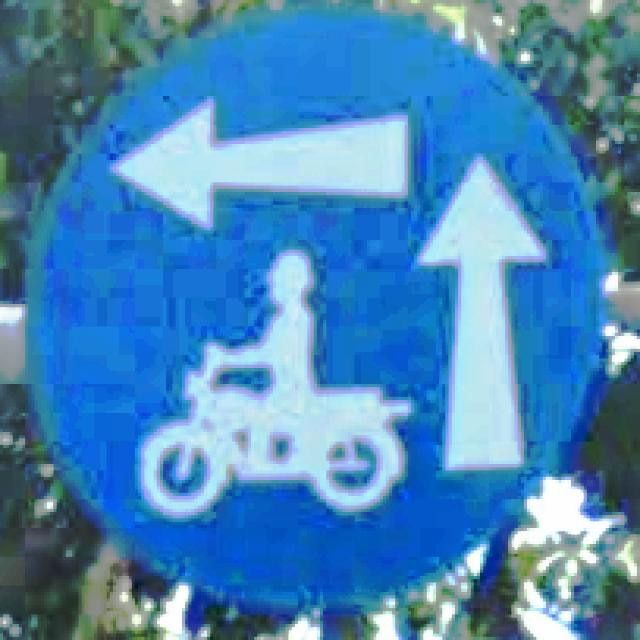twostageturn: (25, 10, 609, 618)
